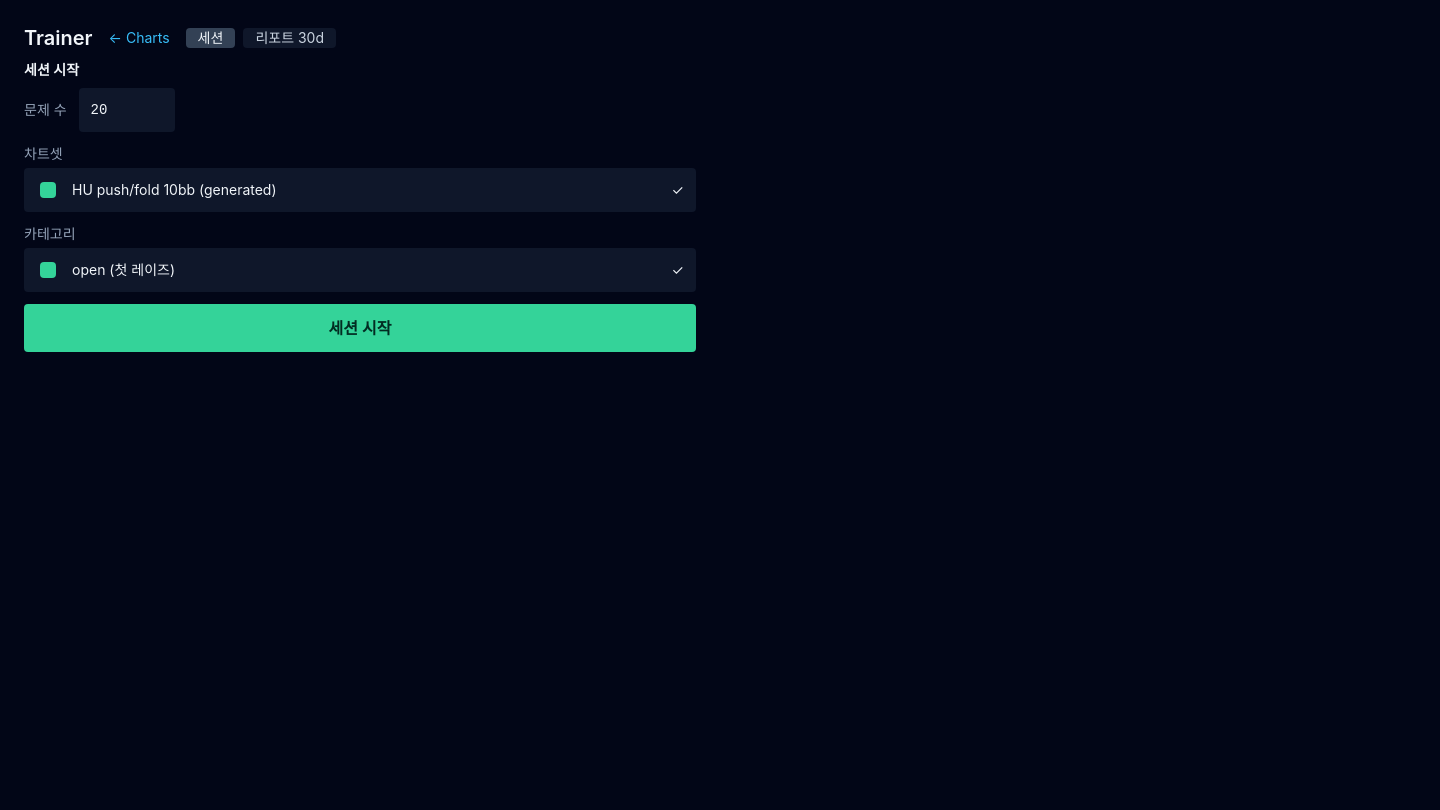
P3 0.3 화면에 "정답/오답" 이 없다 (D8) › P3 0.3 출제 화면(마스크)에 "정답/오답" 이 없다
Expected: the checkbox with test id "session-cat-open" is shown, [36,258,60,282]
Step 1. Click the button with test id "session-start" → (360, 328), box [24,304,696,352]
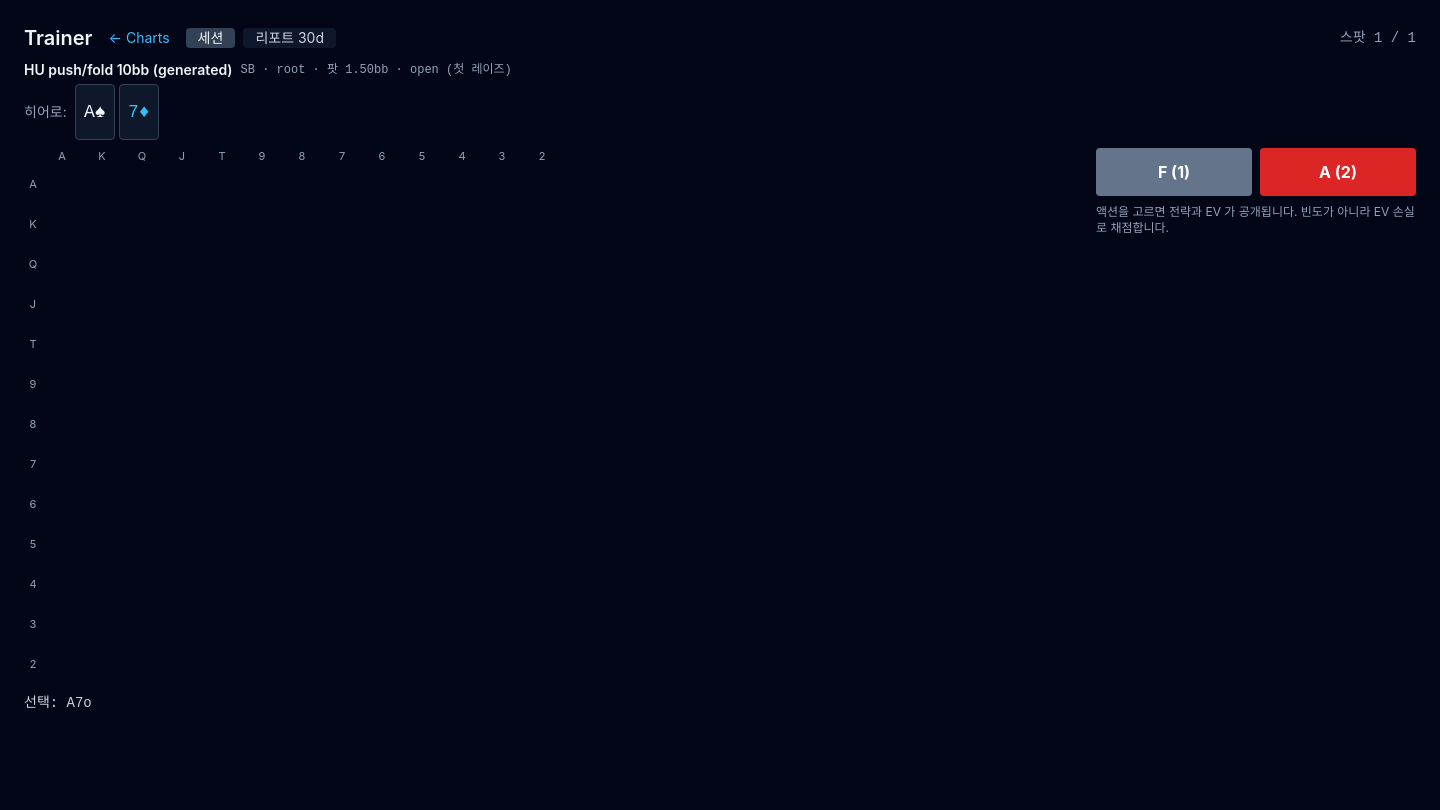
Now the element with test id "answer-buttons" is shown, box [1096,148,1416,196]
Now the text "EV 손실로 채점" is shown, box [1096,204,1415,235]
